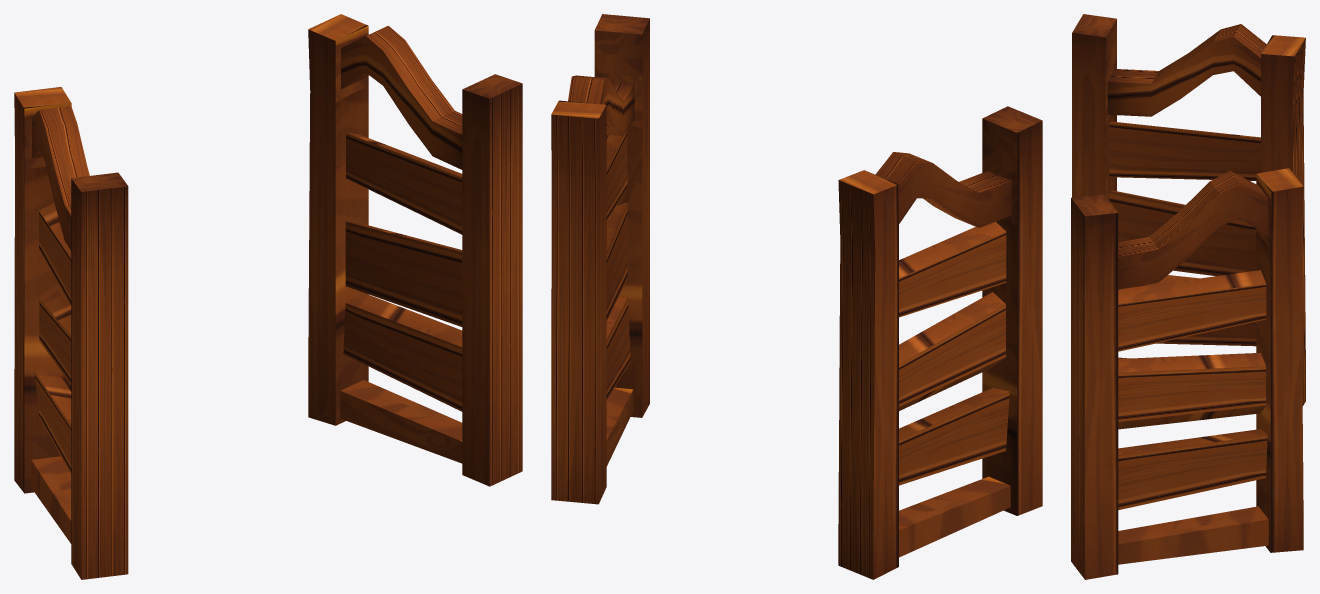
File: ANIMACION PUERTAcerrar2.fbx
3 views of the same model, side by side, from view 1: azimuth 30°, elevation 25°; view 2: azimuth 150°, elevation 25°; view 3: azimuth 270°, elevation 25° (orthographic). The views are drawn at different scales.
Visible parts, largest first — view 1: Cube.051, Cube.001; view 2: Cube.001, Cube.051; view 3: Cube.051, Cube.001.
Boxes of the visible parts, bbox=[...] form: Cube.051: bbox=[308, 14, 522, 486]; Cube.001: bbox=[14, 87, 128, 579]; Cube.001: bbox=[838, 106, 1042, 579]; Cube.051: bbox=[551, 14, 649, 504]; Cube.051: bbox=[1071, 168, 1303, 579]; Cube.001: bbox=[1072, 14, 1305, 406].
Size of the model in its own units: 133 by 114 by 65.33.
